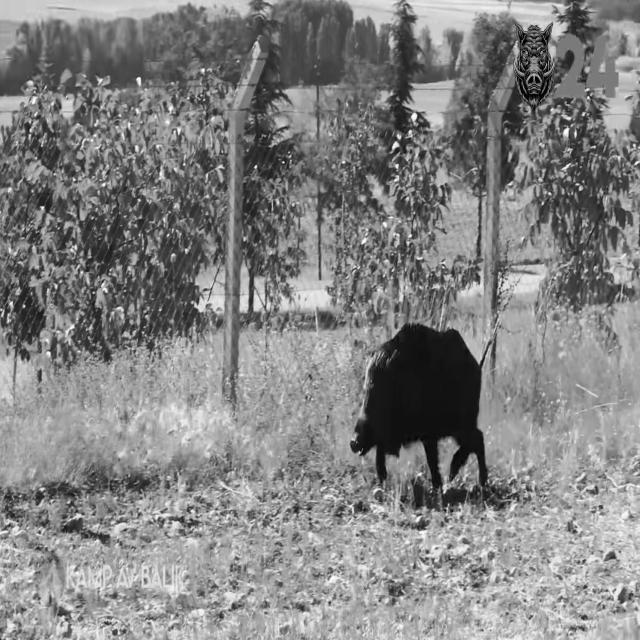boar: (350, 323, 487, 489), (514, 20, 556, 109)
